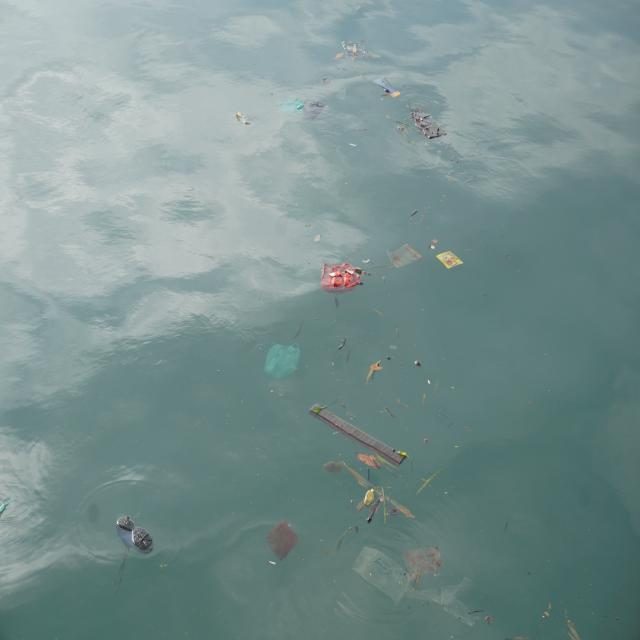Bungkus Makanan: (388, 243, 424, 270), (436, 250, 465, 272)
Kantong Plastik: (355, 540, 414, 605), (319, 253, 366, 302), (403, 541, 447, 587), (267, 338, 303, 382), (268, 519, 300, 565)
